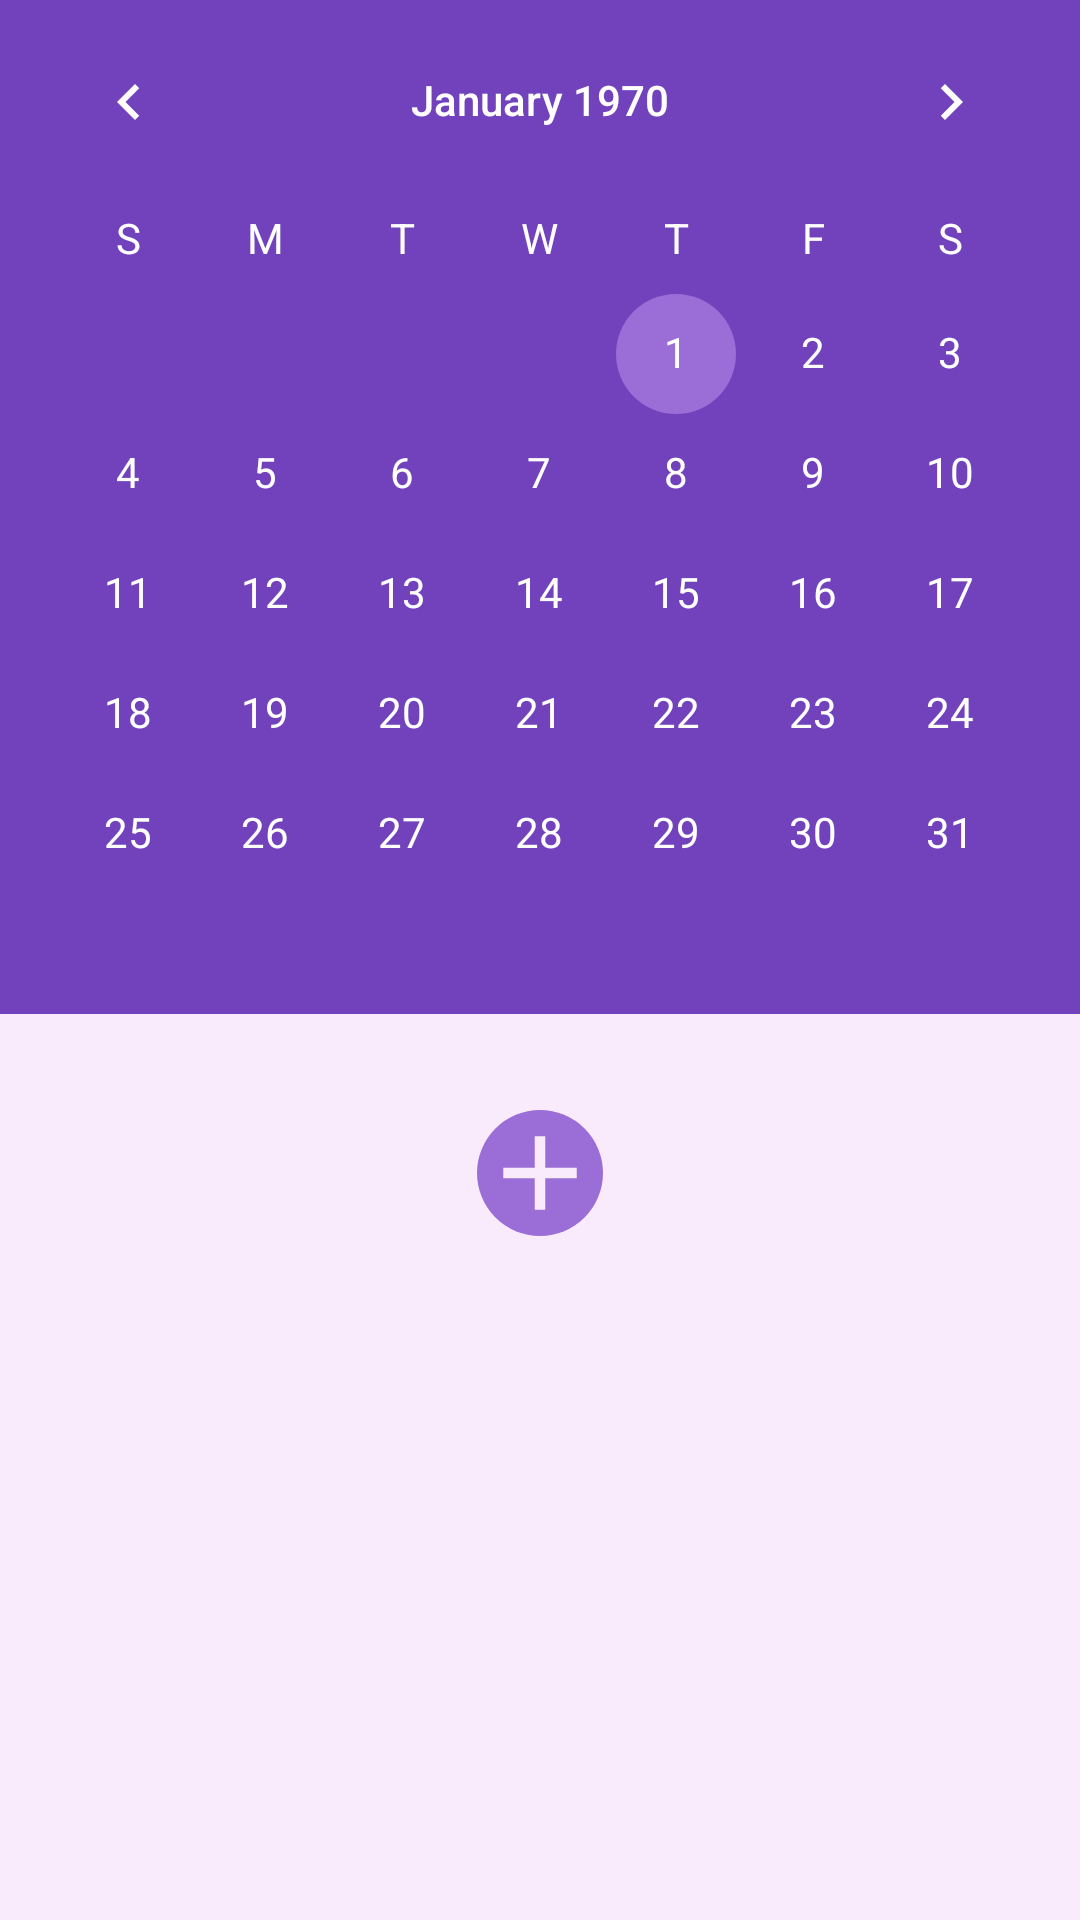

Icons on this 1080x1920 Android screen, each with its box as (x1, y1, x2, y2):
add: (477, 1110, 603, 1236)
